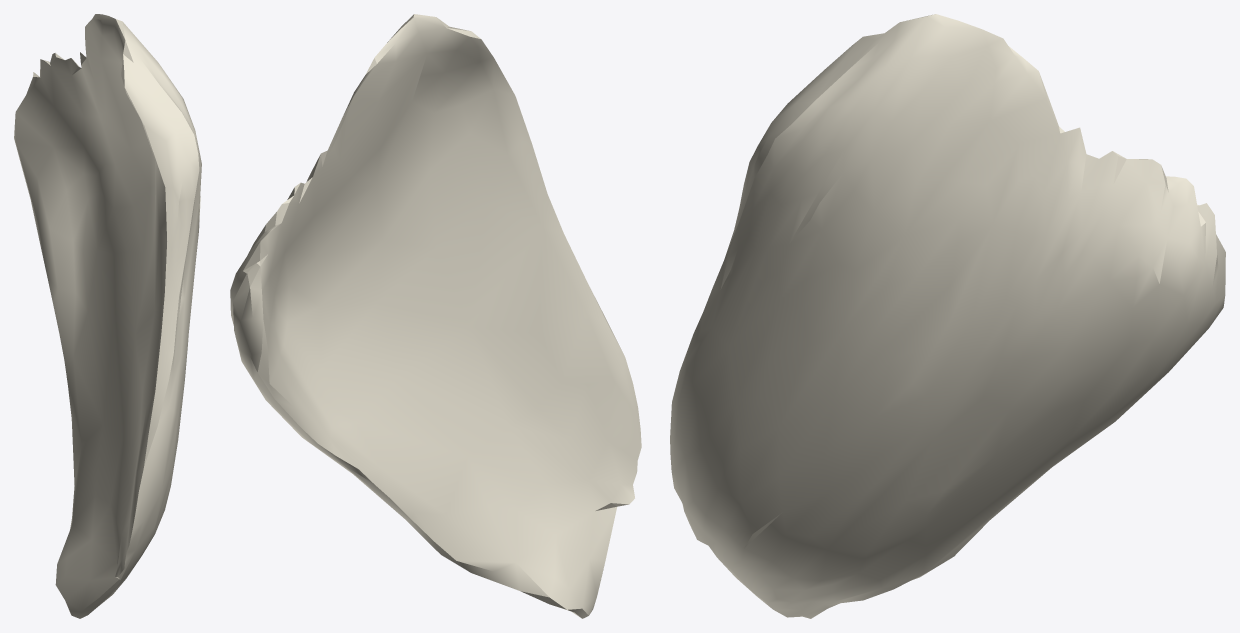
The model's file is fma321710-r_mm1490m.glb.
3 views of the same model, side by side, from view 1: azimuth 30°, elevation 25°; view 2: azimuth 150°, elevation 25°; view 3: azimuth 270°, elevation 25° (orthographic). The views are drawn at different scales.
Visible parts, largest first — view 1: FMA321710-R_MM1490M; view 2: FMA321710-R_MM1490M; view 3: FMA321710-R_MM1490M.
Boxes of the visible parts, left/top/right/bottom form: FMA321710-R_MM1490M: left=14, top=14, right=201, bottom=618; FMA321710-R_MM1490M: left=230, top=14, right=641, bottom=618; FMA321710-R_MM1490M: left=670, top=14, right=1225, bottom=618.
Bounding box in the file's own units: 0.00546 × 0.0169 × 0.0129.
